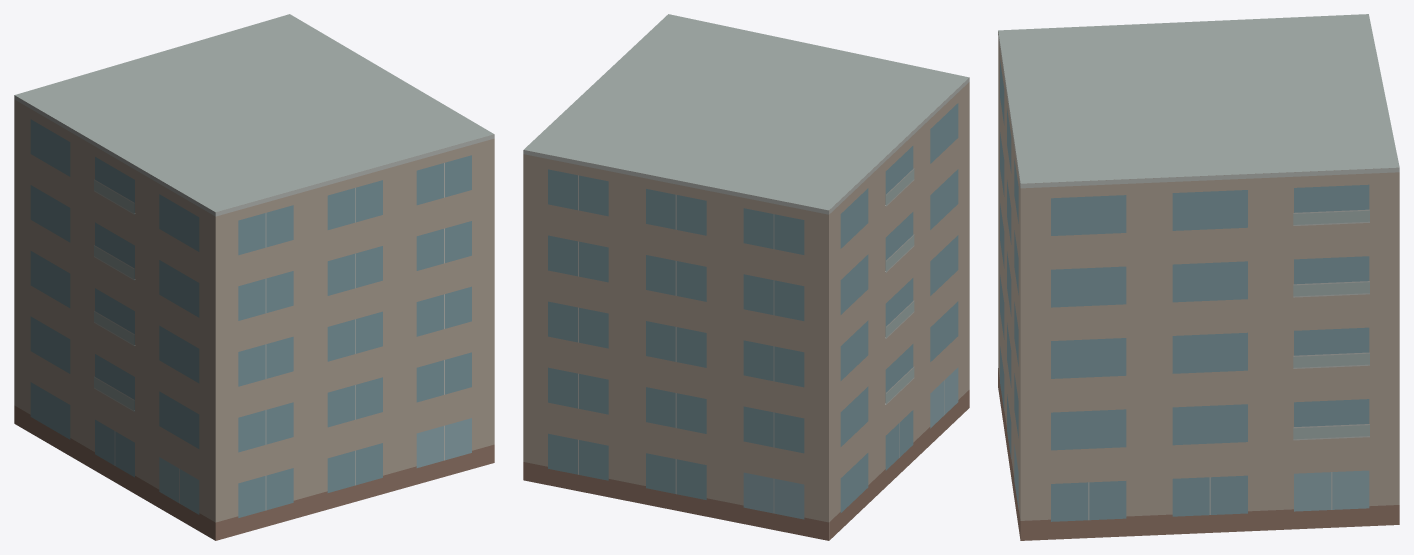
The model's file is survey-upis-32471468.glb.
The picture shows the model from 3 angles, left to right: view 1: azimuth 30°, elevation 25°; view 2: azimuth 150°, elevation 25°; view 3: azimuth 270°, elevation 25°; orthographic projection. The views are drawn at different scales.
Visible parts, largest first — view 1: survey-upis-32471468.tmp; view 2: survey-upis-32471468.tmp; view 3: survey-upis-32471468.tmp.
Part boxes in pixels (box(x1,y1,x2,y2)): survey-upis-32471468.tmp: box(14, 14, 494, 540); survey-upis-32471468.tmp: box(523, 14, 969, 540); survey-upis-32471468.tmp: box(998, 14, 1399, 540).
Size of the model in its own units: 19.17 by 18.8 by 19.17.
